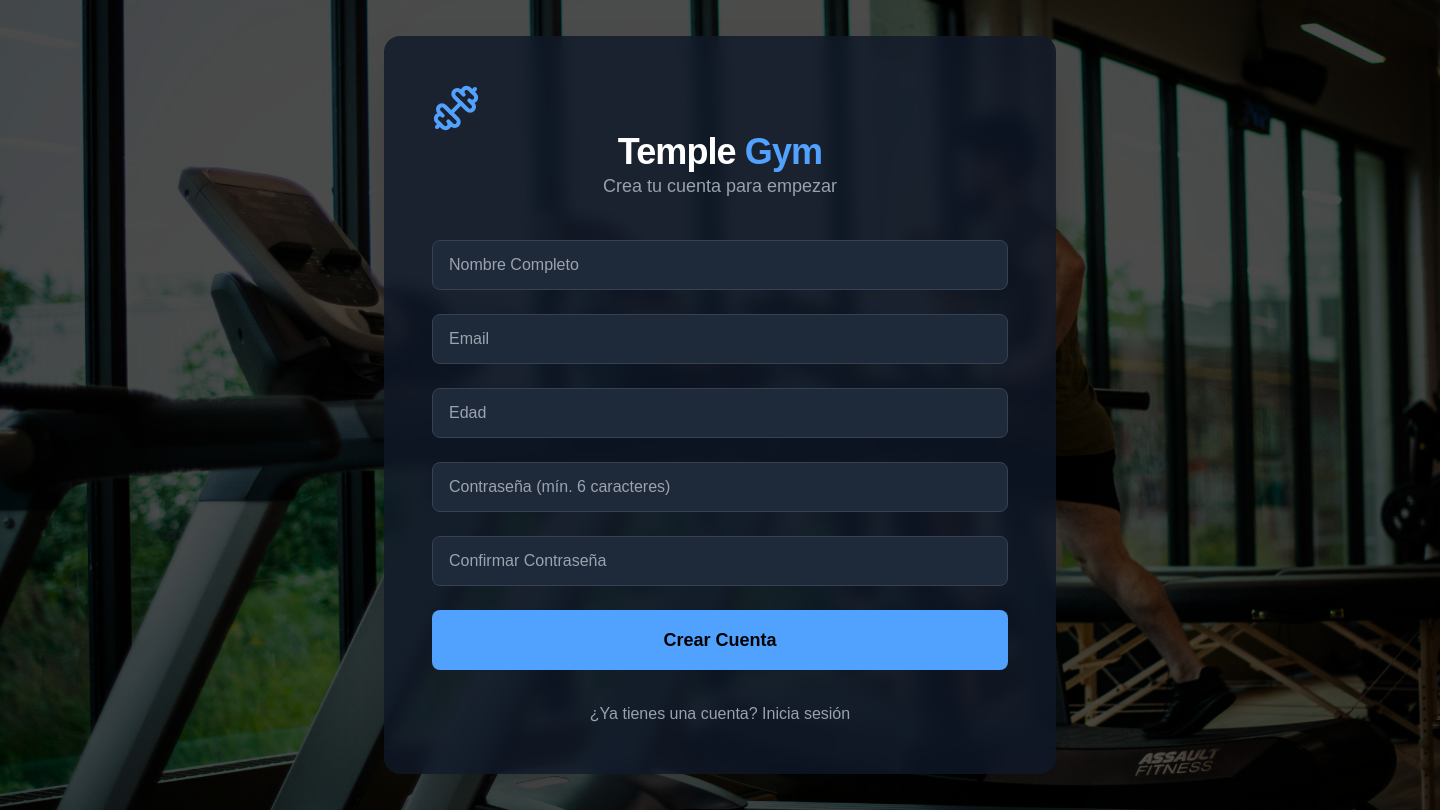
Scenario: RegisterForm › Validation Logic › should show error when fullName is less than 3 characters
Type "Jo" into the field with placeholder "Nombre Completo" at (720, 265), box top-left (432, 240), bottom-right (1008, 290)
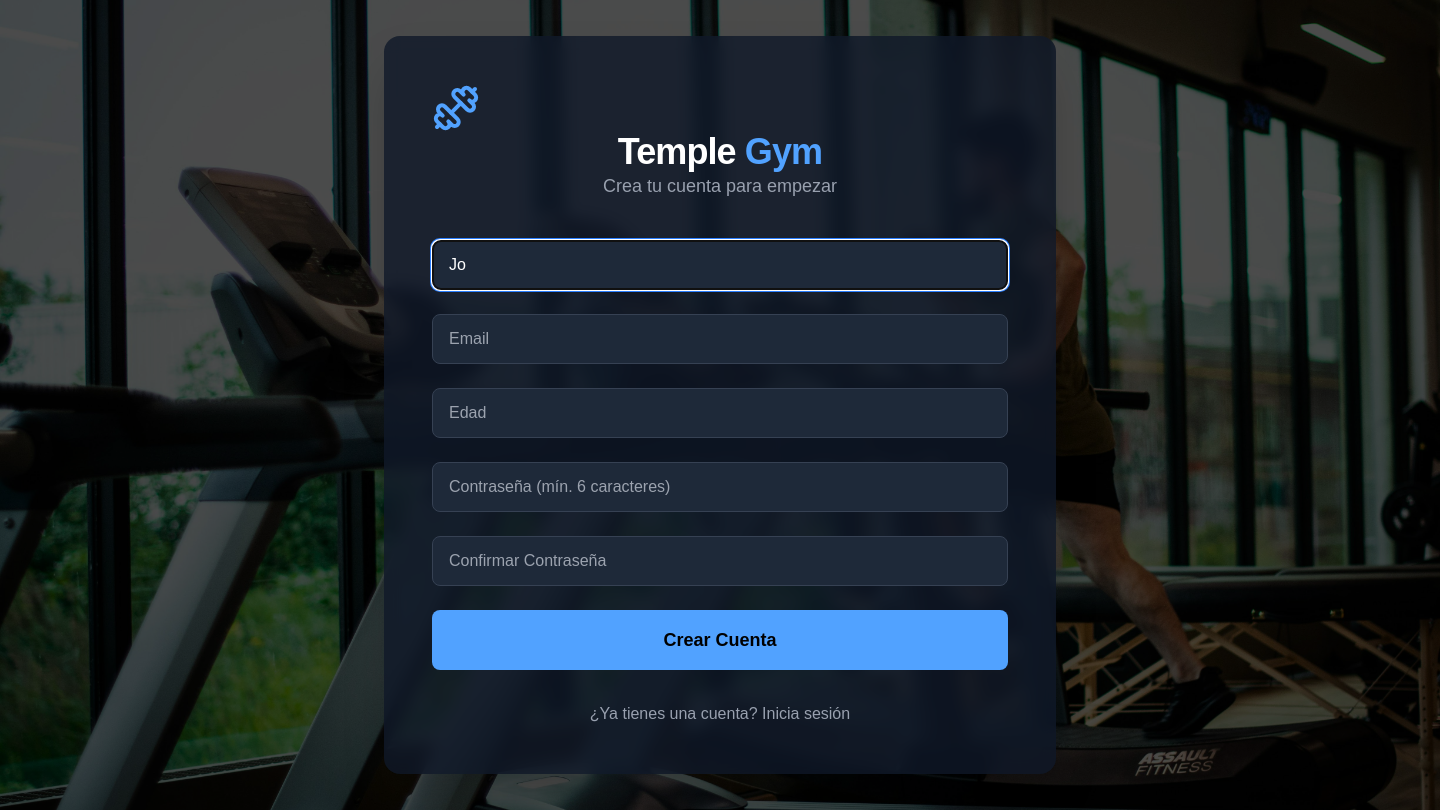
Type "john@example.com" into the field with placeholder "Email" at (720, 339), box top-left (432, 314), bottom-right (1008, 364)
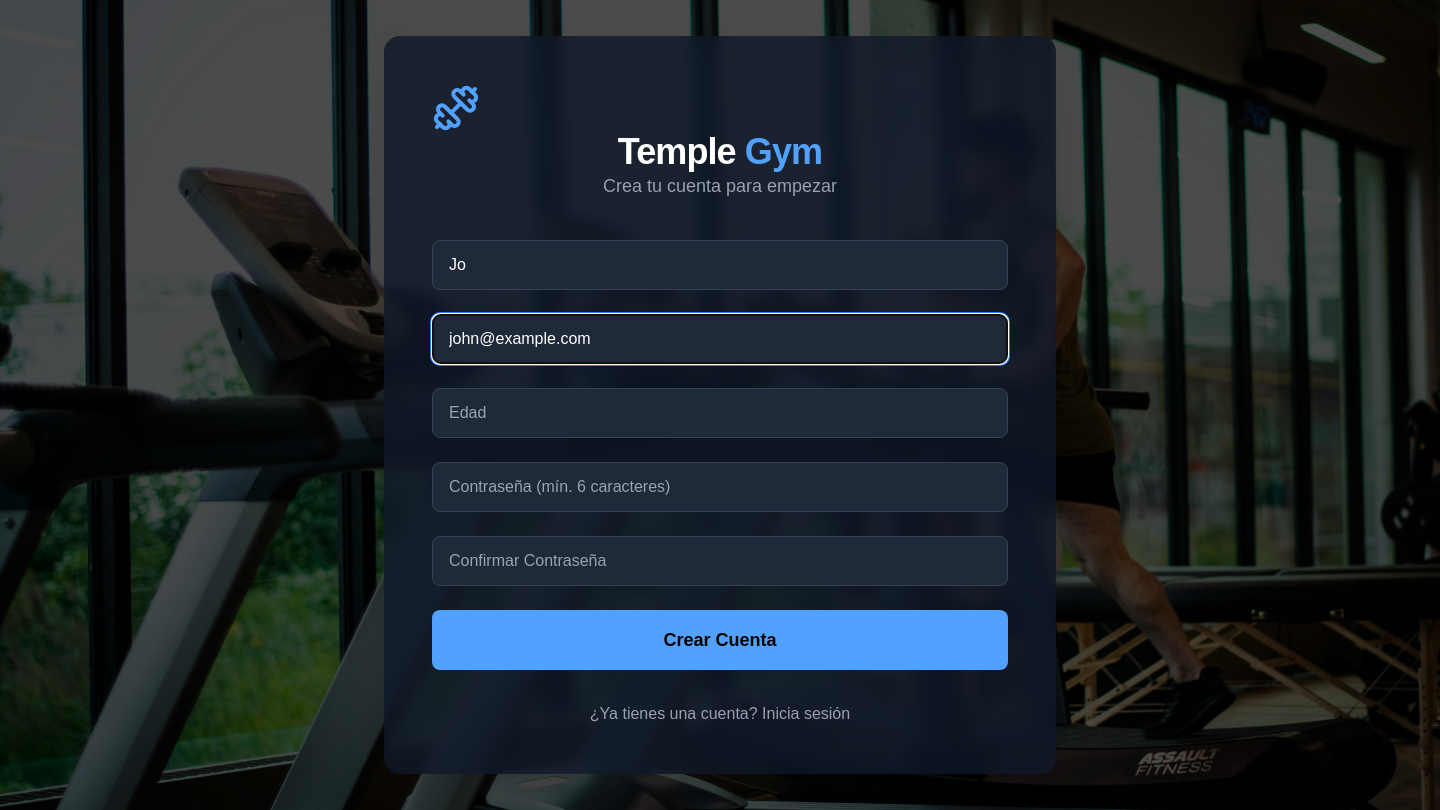
Type "25" into the number field with placeholder "Edad" at (720, 413), box top-left (432, 388), bottom-right (1008, 438)
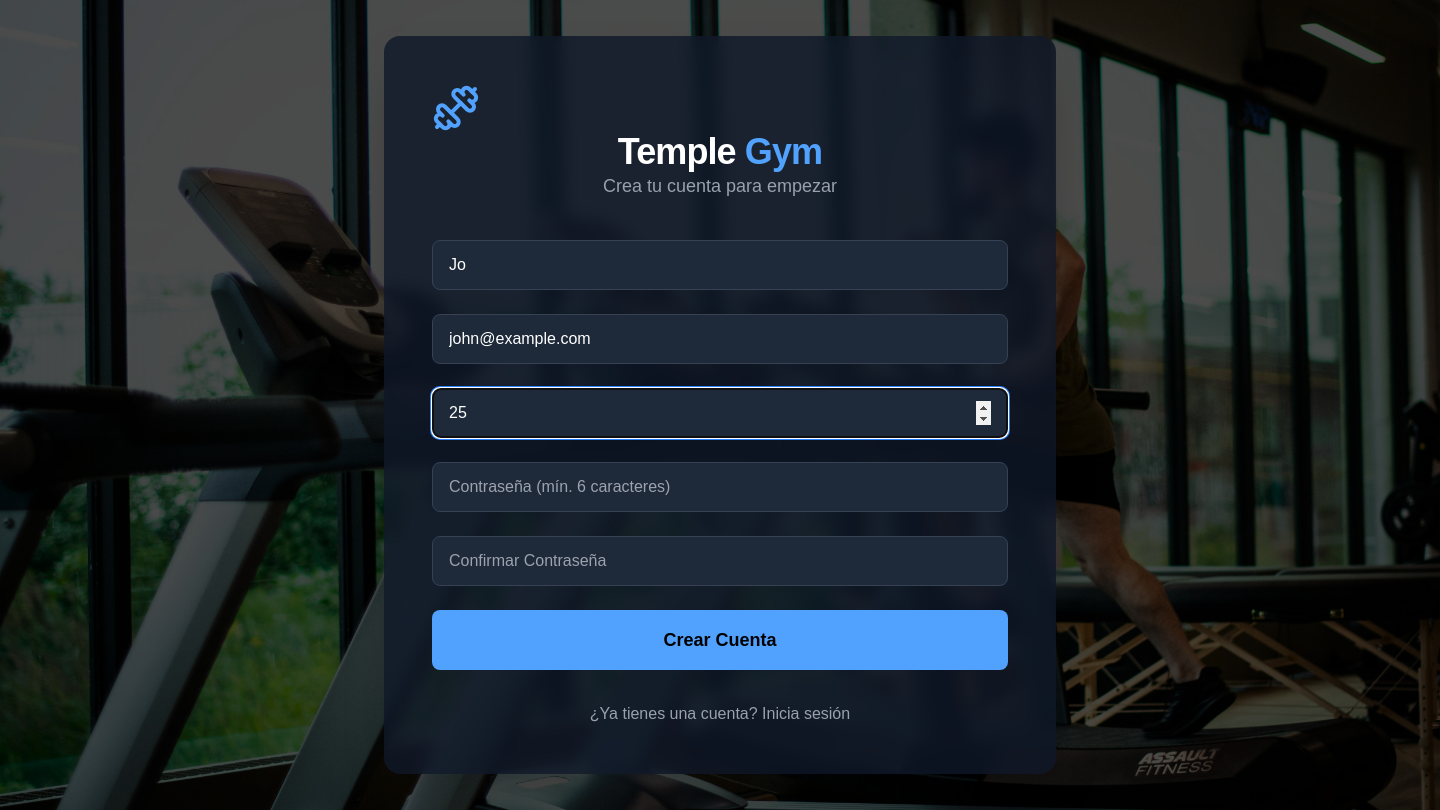
Type "password123" into the password field with placeholder "Contraseña (mín. 6 caracteres)" at (720, 487), box top-left (432, 462), bottom-right (1008, 512)
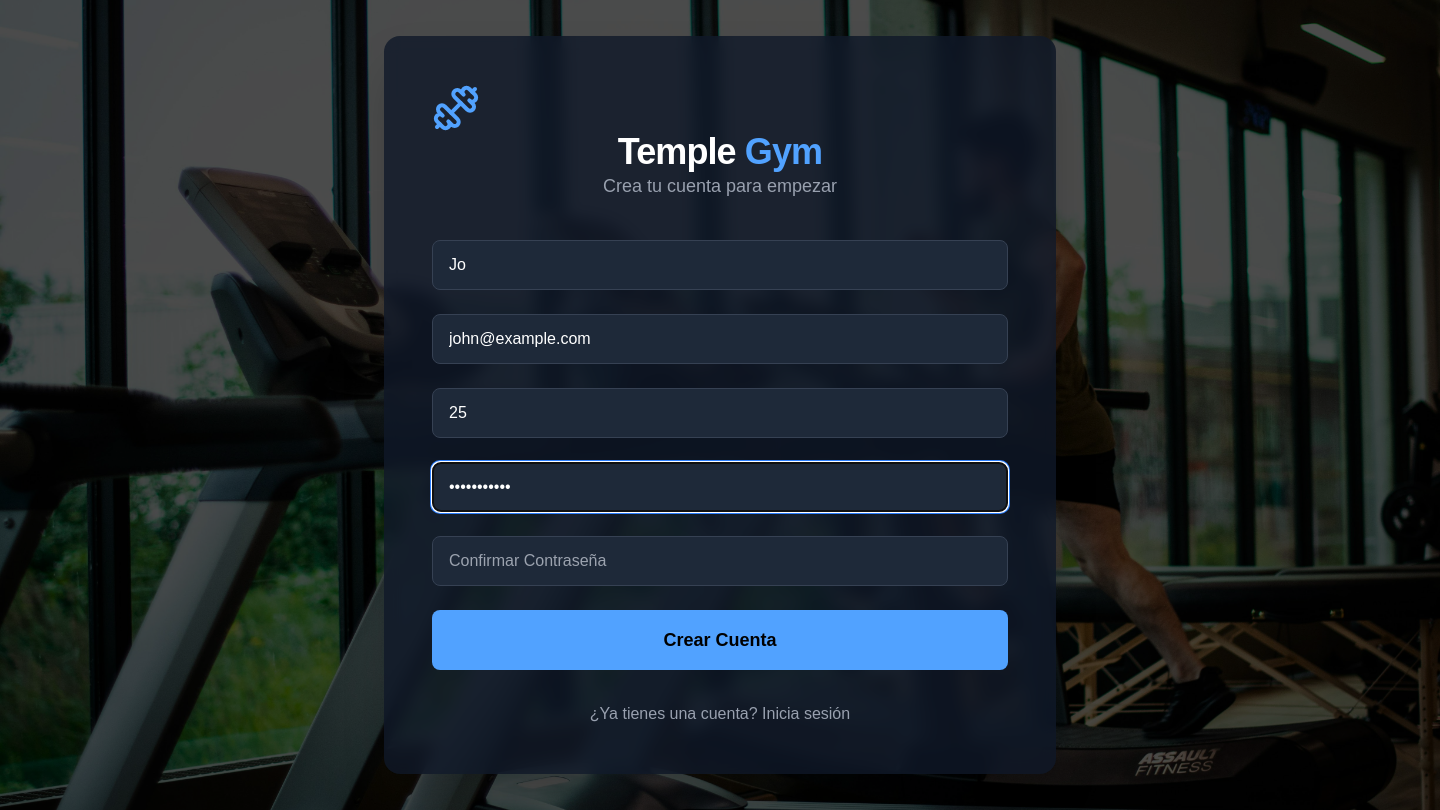
Type "password123" into the password field with placeholder "Confirmar Contraseña" at (720, 561), box top-left (432, 536), bottom-right (1008, 586)
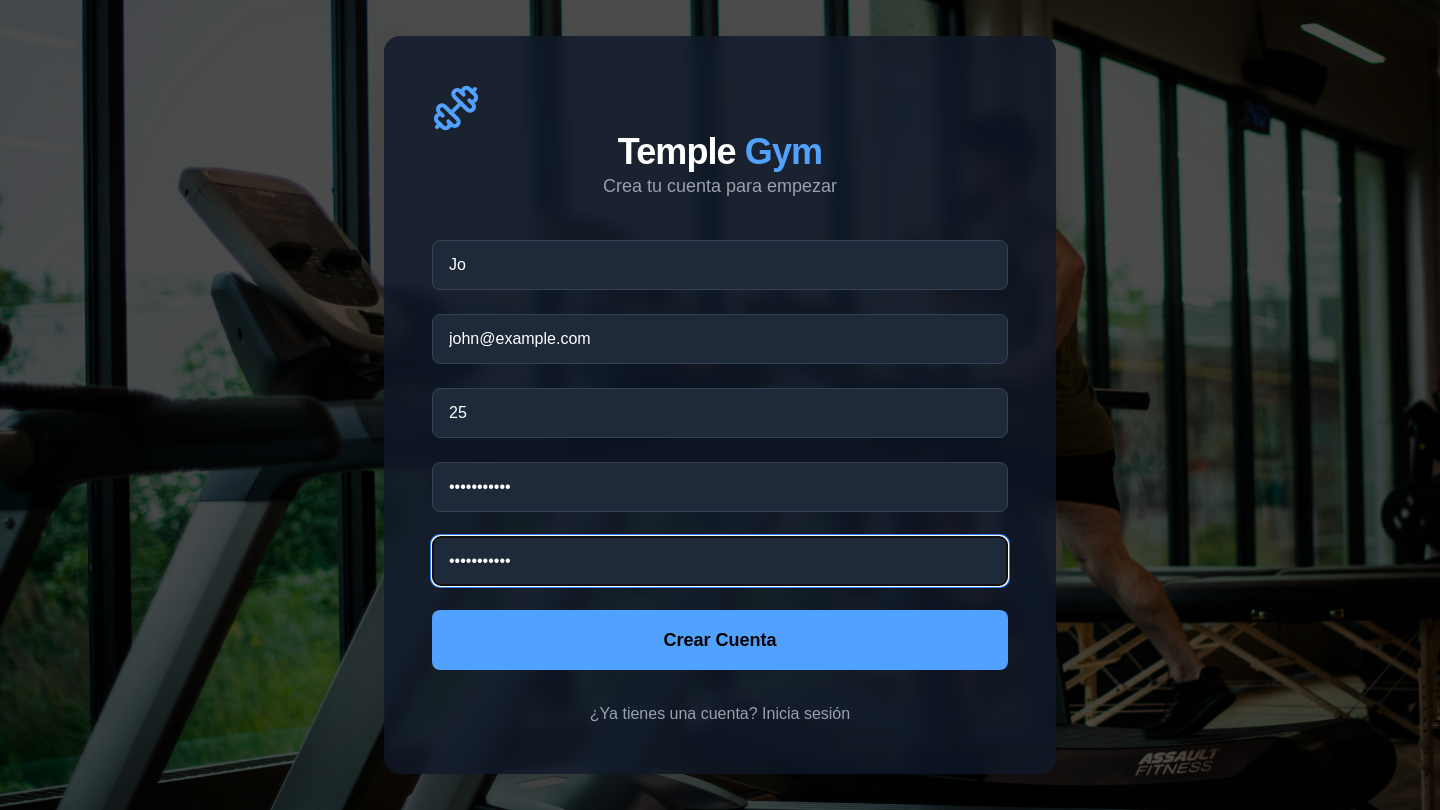
Click the button "Crear Cuenta" at (720, 640), box top-left (432, 610), bottom-right (1008, 670)
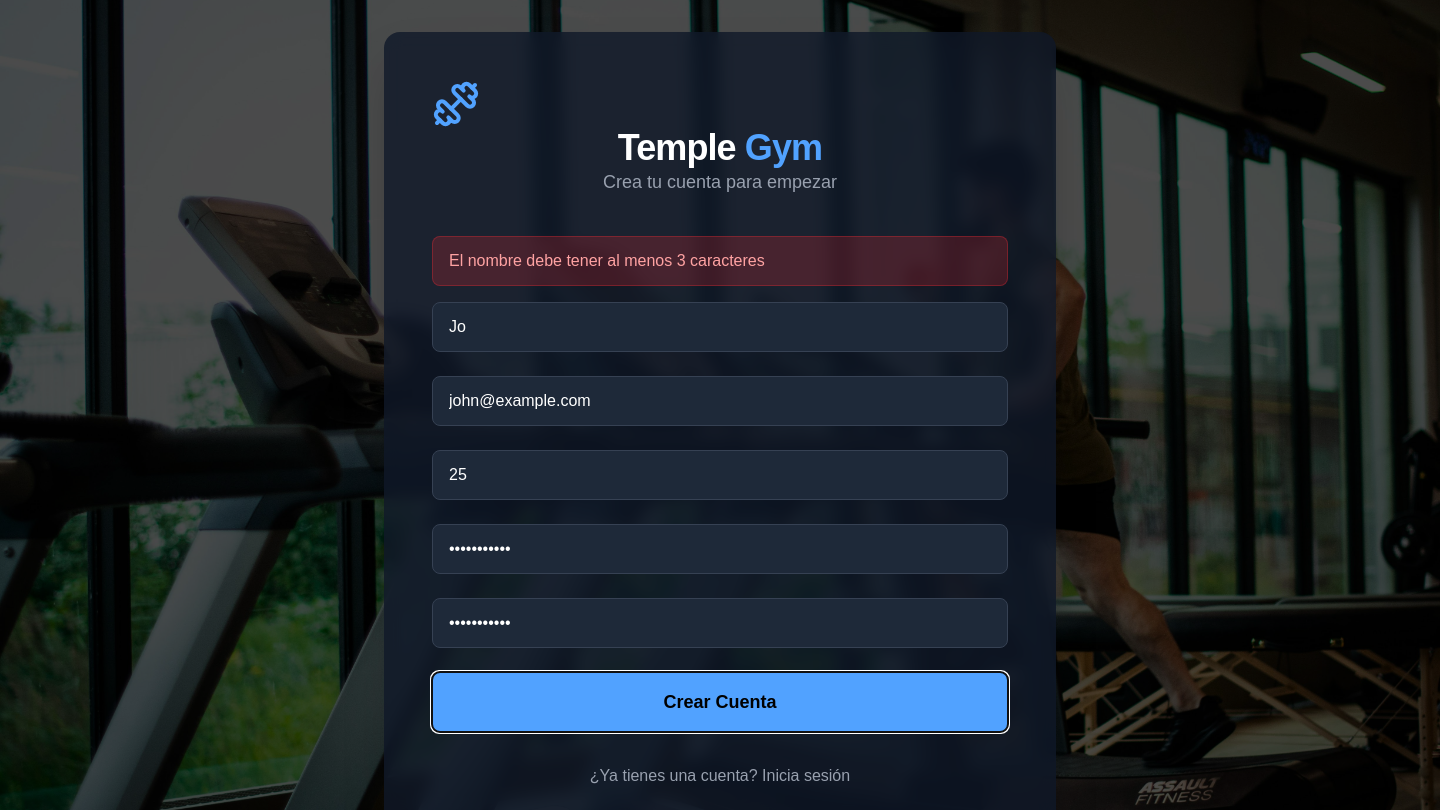
expect the text "El nombre debe tener al menos 3 caracteres" is shown: met, box top-left (432, 236), bottom-right (1008, 286)
